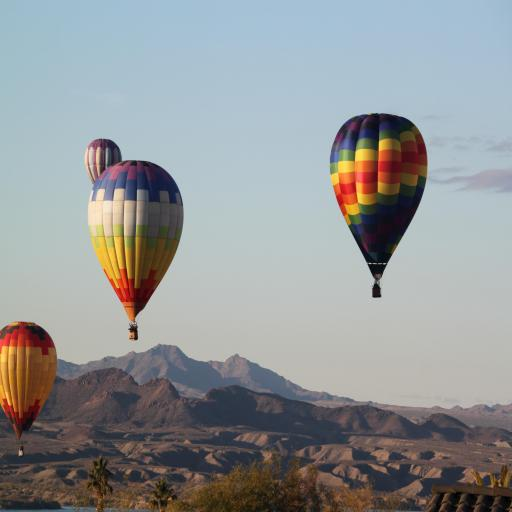hot air ballon: (330, 108, 427, 306), (88, 156, 187, 341), (0, 317, 57, 459), (86, 136, 124, 183)
